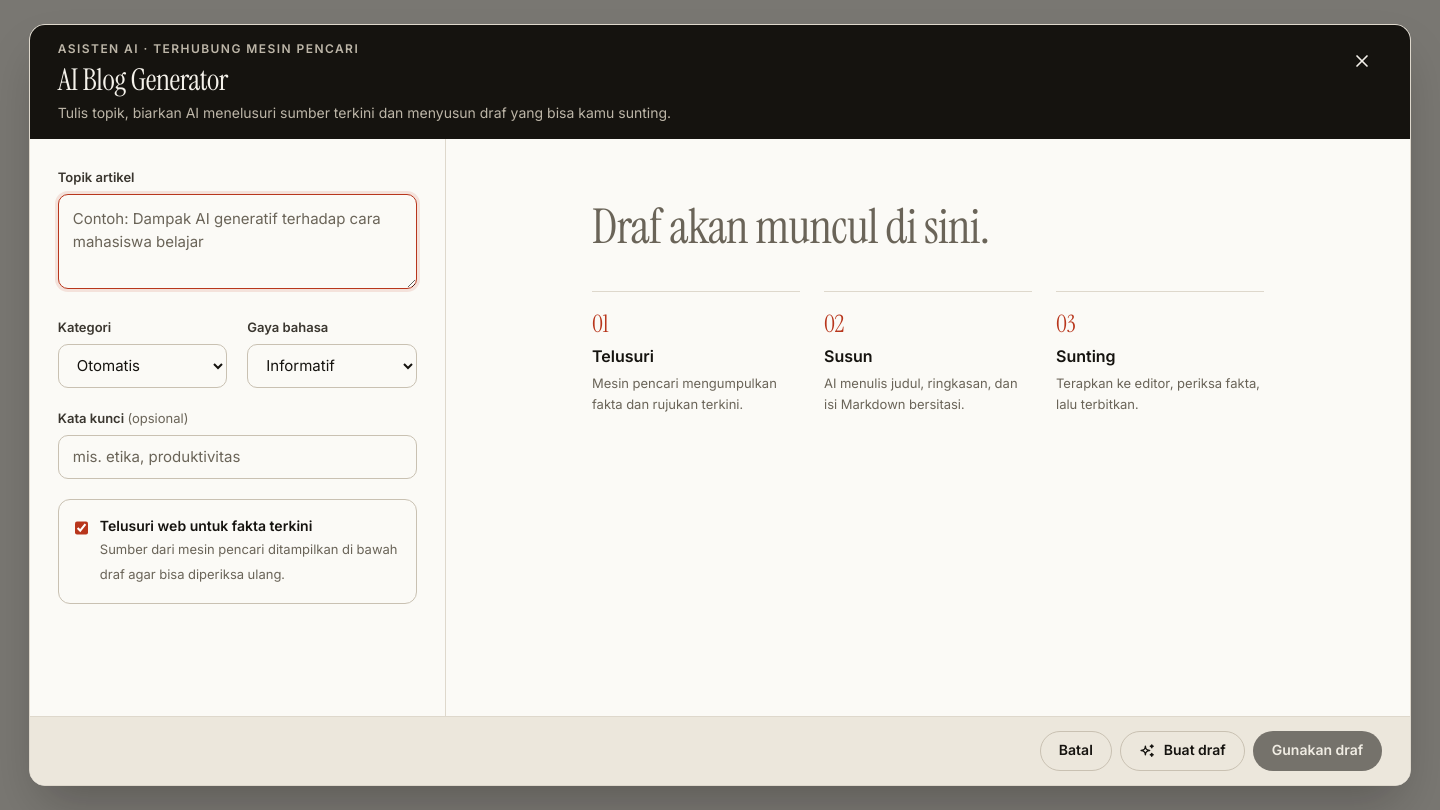
Test: AiPostGeneratorModal › shows API errors
In the text box labelled "Topik artikel": (237,242) top-left (58, 194), bottom-right (417, 289), type "AI"
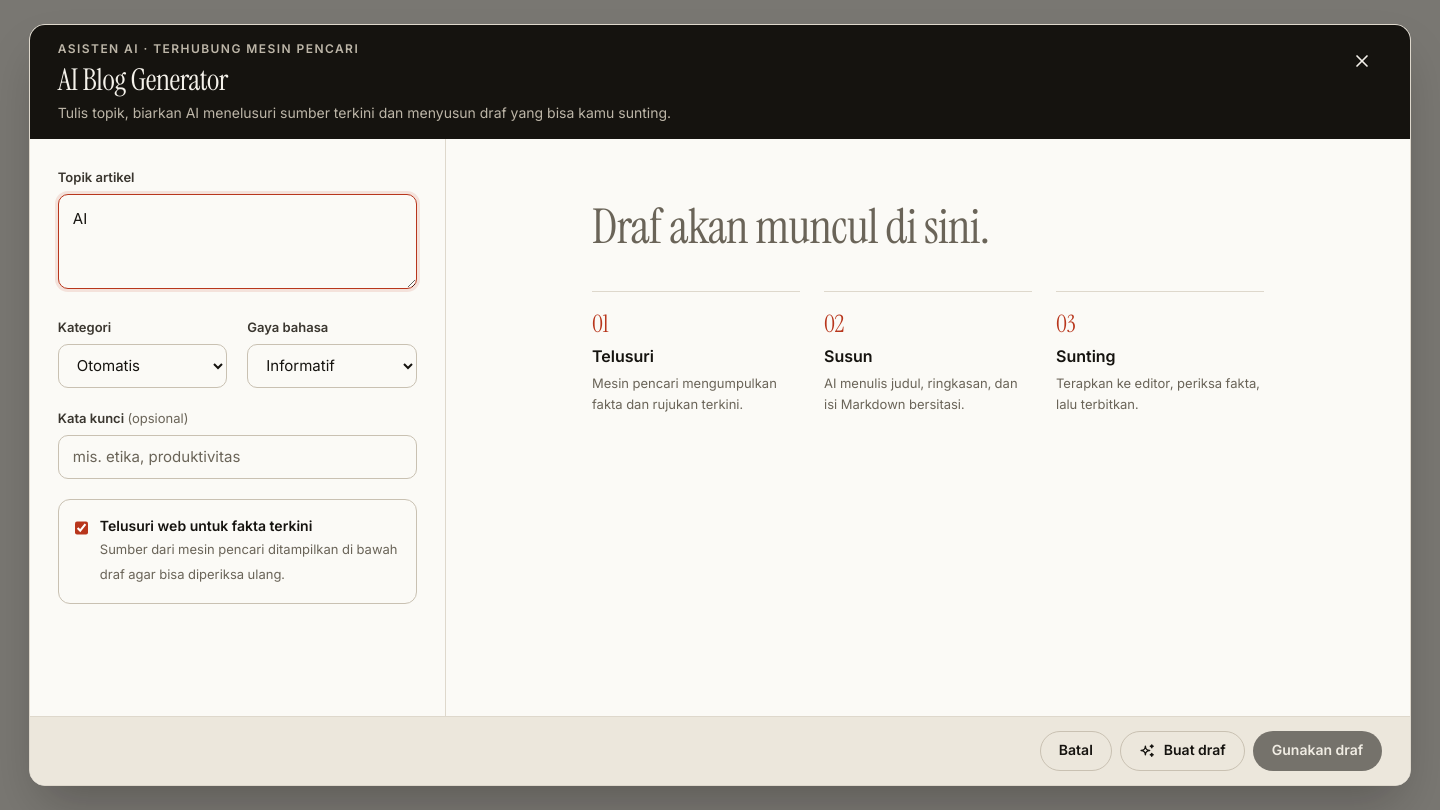
Click the button "Buat draf": (1182,751) top-left (1120, 731), bottom-right (1245, 771)
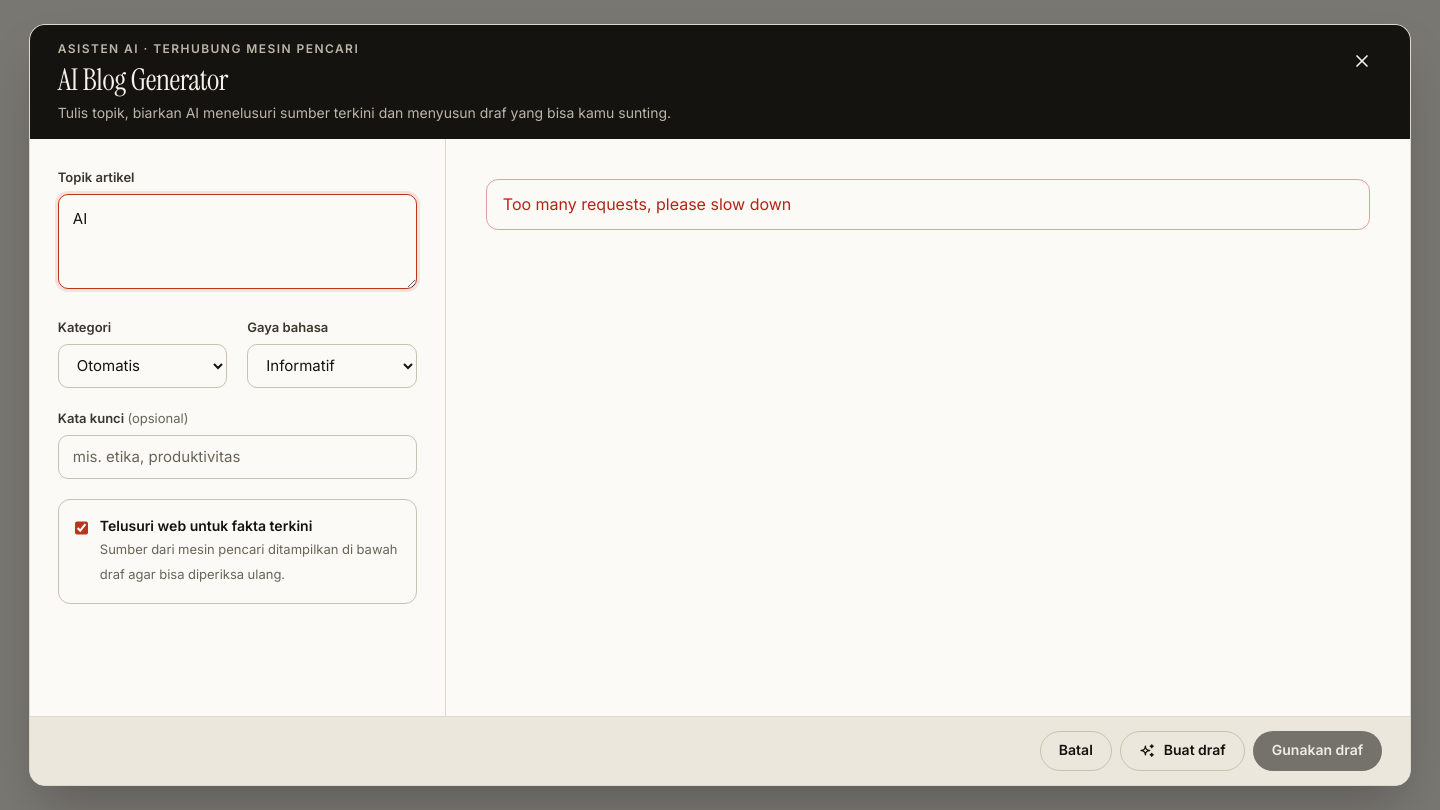
Expected: the message shows "Too many requests", top-left (503, 194), bottom-right (791, 214)
